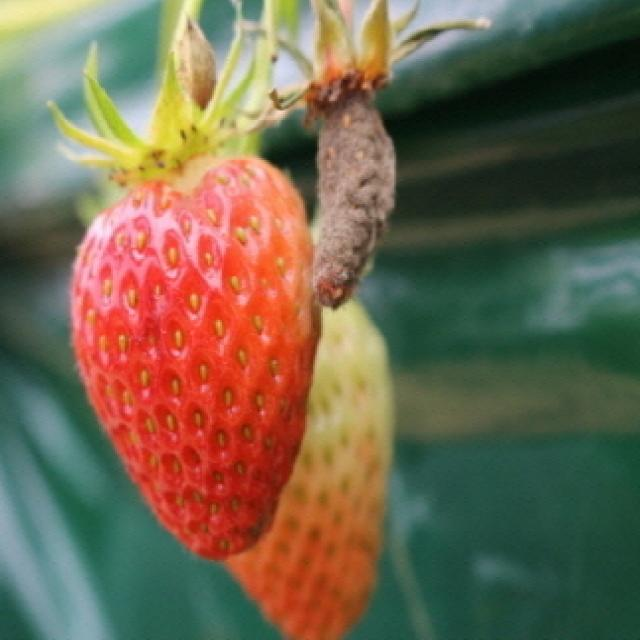Gray Mold: (305, 66, 399, 312)
